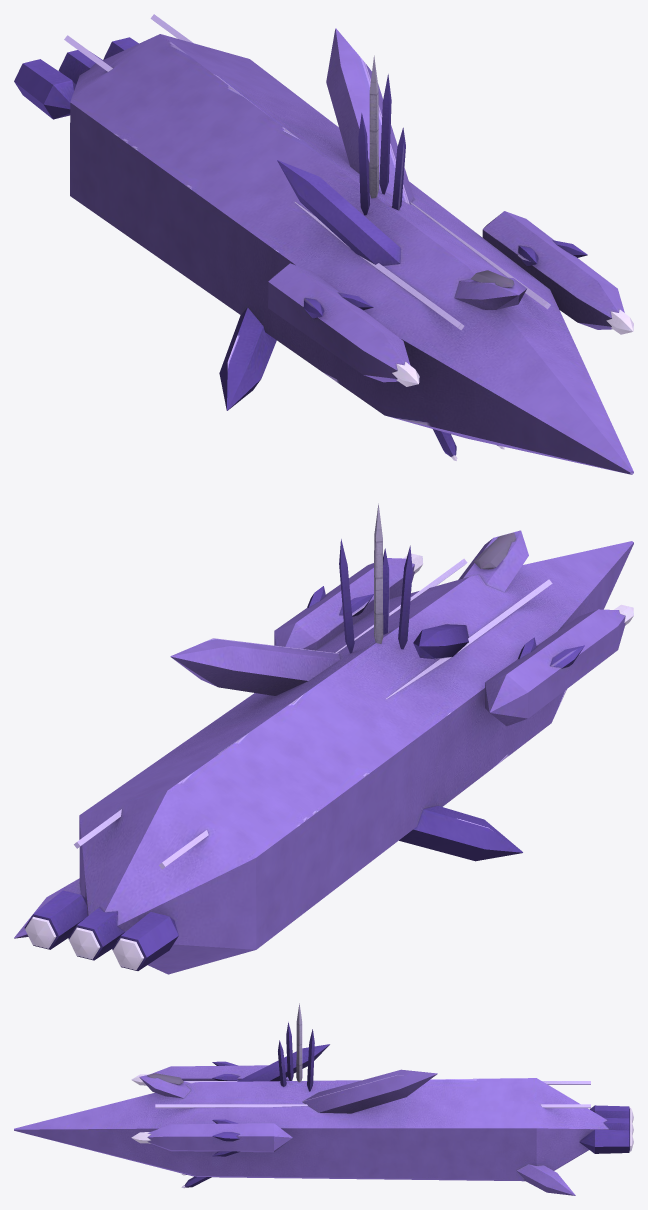
Rendered from myrr_frigate.glb.
3 views of the same model, one above another, from view 1: azimuth 30°, elevation 25°; view 2: azimuth 150°, elevation 25°; view 3: azimuth 270°, elevation 25° (orthographic). The views are drawn at different scales.
Parts seen in each view (by area): view 1: HULL, SYS_WPN2, SYS_WPN1, SYS_SENSORS, SYS_DRIVE, SYS_BRIDGE, SYS_BUS_F; view 2: HULL, SYS_WPN2, SYS_DRIVE, SYS_WPN1, SYS_SENSORS, SYS_BRIDGE, SYS_BUS_F, SYS_BUS_A; view 3: HULL, SYS_WPN1, SYS_DRIVE, SYS_WPN2, SYS_SENSORS, SYS_BRIDGE, SYS_BUS_F, SYS_BUS_A.
Part boxes in pixels (x1,y1,x2,y2): HULL: [70, 28, 633, 474]; SYS_WPN2: [268, 263, 419, 386]; SYS_WPN1: [482, 211, 633, 334]; SYS_SENSORS: [358, 55, 405, 215]; SYS_DRIVE: [14, 37, 138, 119]; SYS_BRIDGE: [454, 270, 526, 309]; SYS_BUS_F: [294, 202, 550, 330]; HULL: [14, 541, 633, 974]; SYS_WPN2: [485, 604, 633, 726]; SYS_DRIVE: [24, 890, 178, 970]; SYS_WPN1: [274, 553, 423, 650]; SYS_SENSORS: [339, 503, 412, 653]; SYS_BRIDGE: [458, 530, 528, 591]; SYS_BUS_F: [335, 558, 552, 699]; SYS_BUS_A: [74, 809, 208, 869]; HULL: [14, 1044, 609, 1195]; SYS_WPN1: [131, 1119, 292, 1156]; SYS_DRIVE: [579, 1105, 633, 1153]; SYS_WPN2: [131, 1061, 289, 1085]; SYS_SENSORS: [278, 1003, 314, 1091]; SYS_BRIDGE: [139, 1073, 190, 1098]; SYS_BUS_F: [155, 1081, 307, 1108]; SYS_BUS_A: [540, 1081, 590, 1108].
Bounding box in the file's own units: 8.81 × 9.6 × 30.22.
1 material, 1 textured.
